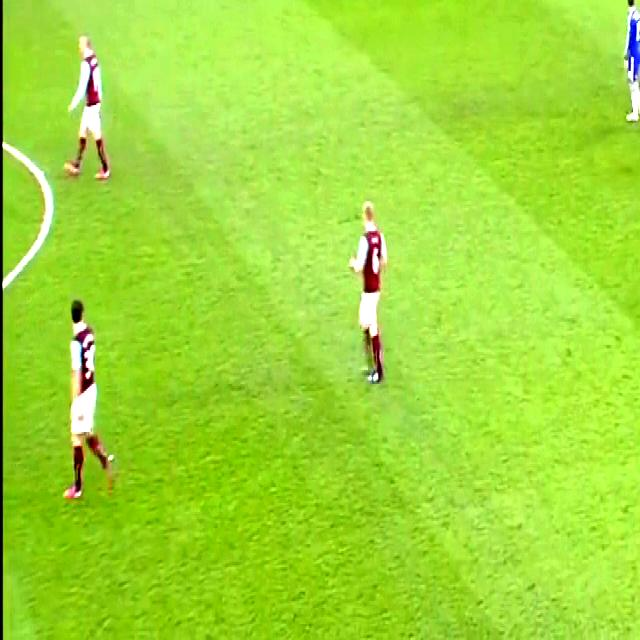soccer-player: (54, 285, 115, 503), (348, 195, 402, 394), (59, 21, 111, 185), (609, 0, 640, 132)
